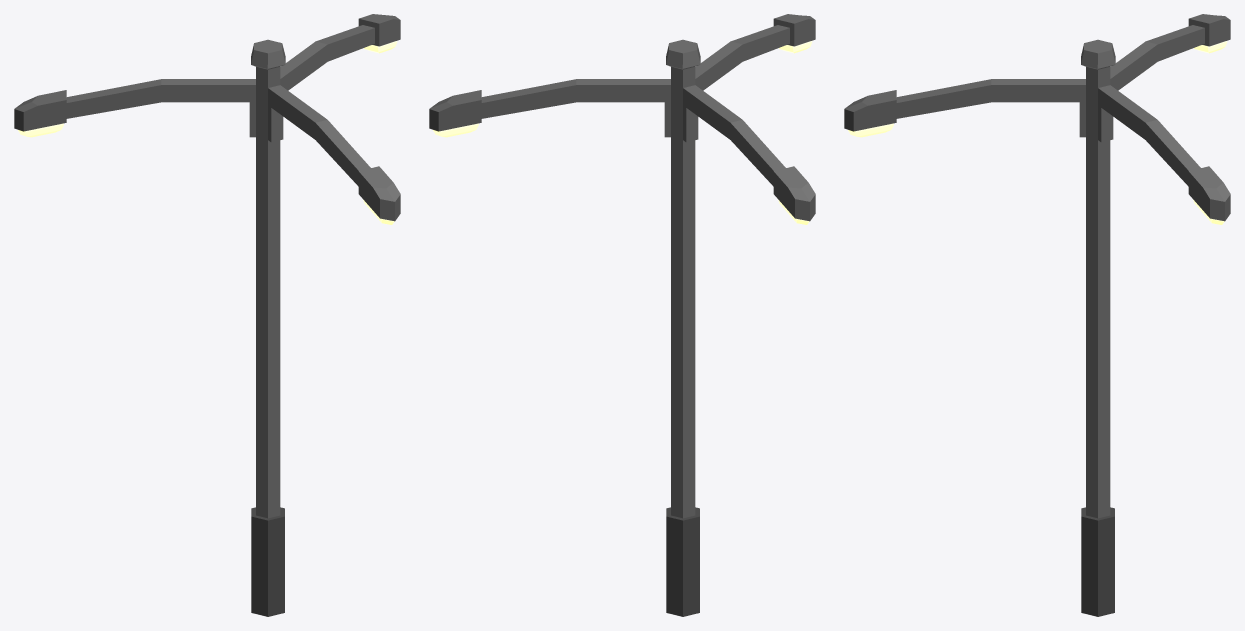
Rendered from Street Lamp 2.fbx.
3 views of the same model, side by side, from view 1: azimuth 30°, elevation 25°; view 2: azimuth 150°, elevation 25°; view 3: azimuth 270°, elevation 25° (orthographic).
Parts seen in each view (by area): view 1: Street Lamp 2; view 2: Street Lamp 2; view 3: Street Lamp 2.
Boxes of the visible parts, x1,y1,x2,y2 form: Street Lamp 2: [14, 14, 400, 616]; Street Lamp 2: [429, 14, 815, 616]; Street Lamp 2: [844, 14, 1230, 616].
Bounding box in the file's own units: 3.61 × 3.18 × 5.1.
